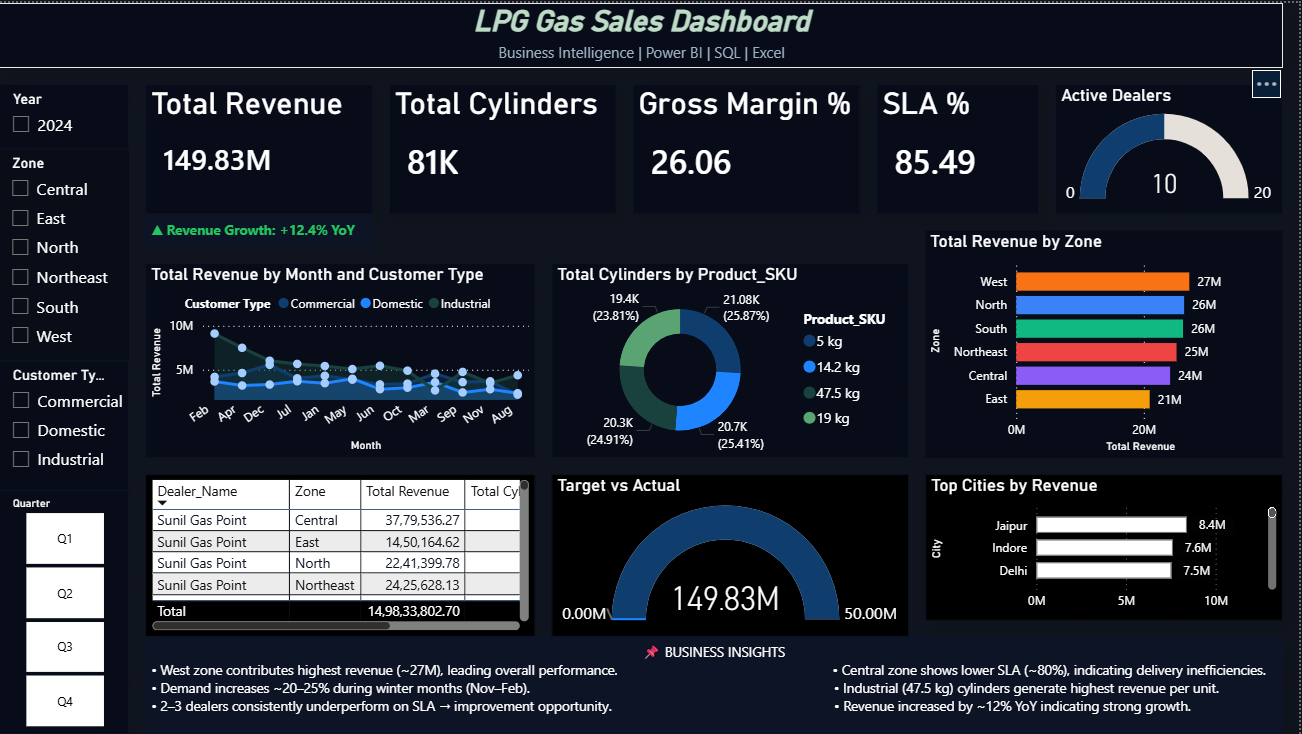

Layout of this report page (visuals, bound fields, positions):
{"tool":"powerbi","page":{"name":"Page 1","canvas":[1280,720],"ordinal":0},"visuals":[{"type":"lineChart","title":"Total Revenue by Month and Customer Type","fields":{"Category":["Sales_Transactions.Month"],"Y":["Sales_Transactions.Total Revenue"],"Series":["Sales_Transactions.Customer_Type"]},"box":[144,256,384,192],"z":0},{"type":"donutChart","fields":{"Category":["Sales_Transactions.Product_SKU"],"Y":["Sales_Transactions.Total Cylinders"]},"box":[544,256,352,192],"z":1000},{"type":"clusteredBarChart","fields":{"Category":["Sales_Transactions.Zone"],"Y":["Sales_Transactions.Total Revenue"]},"box":[912,224,352,224],"z":2000},{"type":"barChart","title":"Top Cities by Revenue","fields":{"Category":["Sales_Transactions.City"],"Y":["Sales_Transactions.Total Revenue"]},"box":[912,464,352,144],"z":3000},{"type":"tableEx","fields":{"Values":["Sales_Transactions.Dealer_Name","Sales_Transactions.Zone","Sales_Transactions.Total Revenue","Sales_Transactions.Total Cylinders","Sales_Transactions.Gross Margin %","Sales_Transactions.SLA %"]},"box":[144,464,384,160],"z":4000},{"type":"gauge","title":"Target vs Actual","fields":{"Y":["Sales_Transactions.Total Revenue"],"TargetValue":["Count(Monthly_Targets.Target_Revenue_INR)"]},"box":[544,464,352,160],"z":5000},{"type":"slicer","fields":{"Values":["Sales_Transactions.Year"]},"box":[0,80,128,64],"z":6000},{"type":"slicer","fields":{"Values":["Sales_Transactions.Zone"]},"box":[0,144,128,208],"z":7000},{"type":"slicer","fields":{"Values":["Sales_Transactions.Customer_Type"]},"box":[0,352,128,128],"z":8000},{"type":"slicer","fields":{"Values":["Sales_Transactions.Quarter"]},"box":[0,480,128,240],"z":9000},{"type":"gauge","title":"Active Dealers","fields":{"Y":["Count(Sales_Transactions.Dealer_ID)"]},"box":[1040,80,224,128],"z":10000},{"type":"textbox","title":"LPG Gas Sales Dashboard ","box":[0,0,1264,64],"z":11000},{"type":"textbox","box":[144,624,1120,96],"z":12000},{"type":"cardVisual","title":"Total Revenue","fields":{"Data":["Sales_Transactions.Total Revenue"]},"box":[144,80,224,128],"z":13000},{"type":"textbox","box":[144,208,224,32],"z":14000},{"type":"cardVisual","title":"SLA %","fields":{"Data":["Sales_Transactions.SLA %"]},"box":[864,80,160,128],"z":15000},{"type":"cardVisual","title":"Gross Margin %","fields":{"Data":["Sales_Transactions.Gross Margin %"]},"box":[624,80,224,128],"z":16000},{"type":"cardVisual","title":"Total Cylinders","fields":{"Data":["Sales_Transactions.Total Cylinders"]},"box":[384,80,224,128],"z":17000}]}

Visuals, with their boxes in screenshot pixels (x1, y1, x2, y2), scaled from the page's 1280x720 canvas onto the 1302x734 screenshot:
"Total Revenue by Month and Customer Type" lineChart: rect(146, 261, 537, 457)
donutChart - Sales_Transactions.Product_SKU x Sales_Transactions.Total Cylinders: rect(553, 261, 911, 457)
clusteredBarChart - Sales_Transactions.Zone x Sales_Transactions.Total Revenue: rect(928, 228, 1286, 457)
"Top Cities by Revenue" barChart: rect(928, 473, 1286, 620)
tableEx - Sales_Transactions.Dealer_Name x Sales_Transactions.Zone: rect(146, 473, 537, 636)
"Target vs Actual" gauge: rect(553, 473, 911, 636)
slicer - Sales_Transactions.Year: rect(0, 82, 130, 147)
slicer - Sales_Transactions.Zone: rect(0, 147, 130, 359)
slicer - Sales_Transactions.Customer_Type: rect(0, 359, 130, 489)
slicer - Sales_Transactions.Quarter: rect(0, 489, 130, 733)
"Active Dealers" gauge: rect(1058, 82, 1286, 212)
"LPG Gas Sales Dashboard " textbox: rect(0, 0, 1286, 65)
textbox: rect(146, 636, 1286, 733)
"Total Revenue" cardVisual: rect(146, 82, 374, 212)
textbox: rect(146, 212, 374, 245)
"SLA %" cardVisual: rect(879, 82, 1042, 212)
"Gross Margin %" cardVisual: rect(635, 82, 863, 212)
"Total Cylinders" cardVisual: rect(391, 82, 618, 212)
